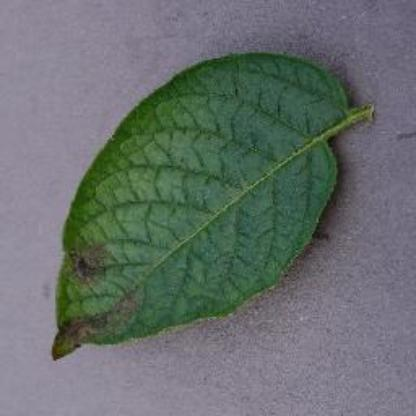Late-Blight: (49, 47, 383, 361)
